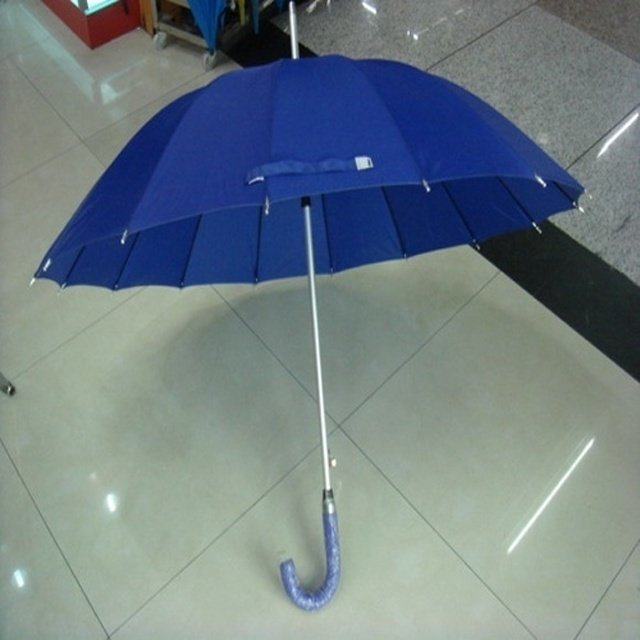umbrella: (22, 1, 590, 615)
